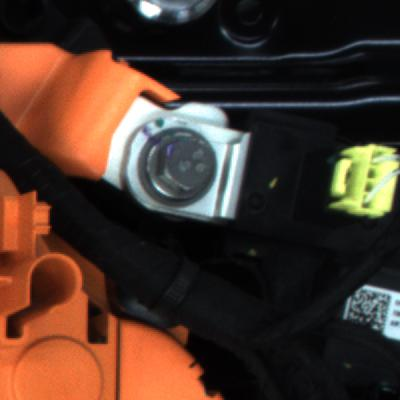nut_b: (130, 117, 228, 209)
